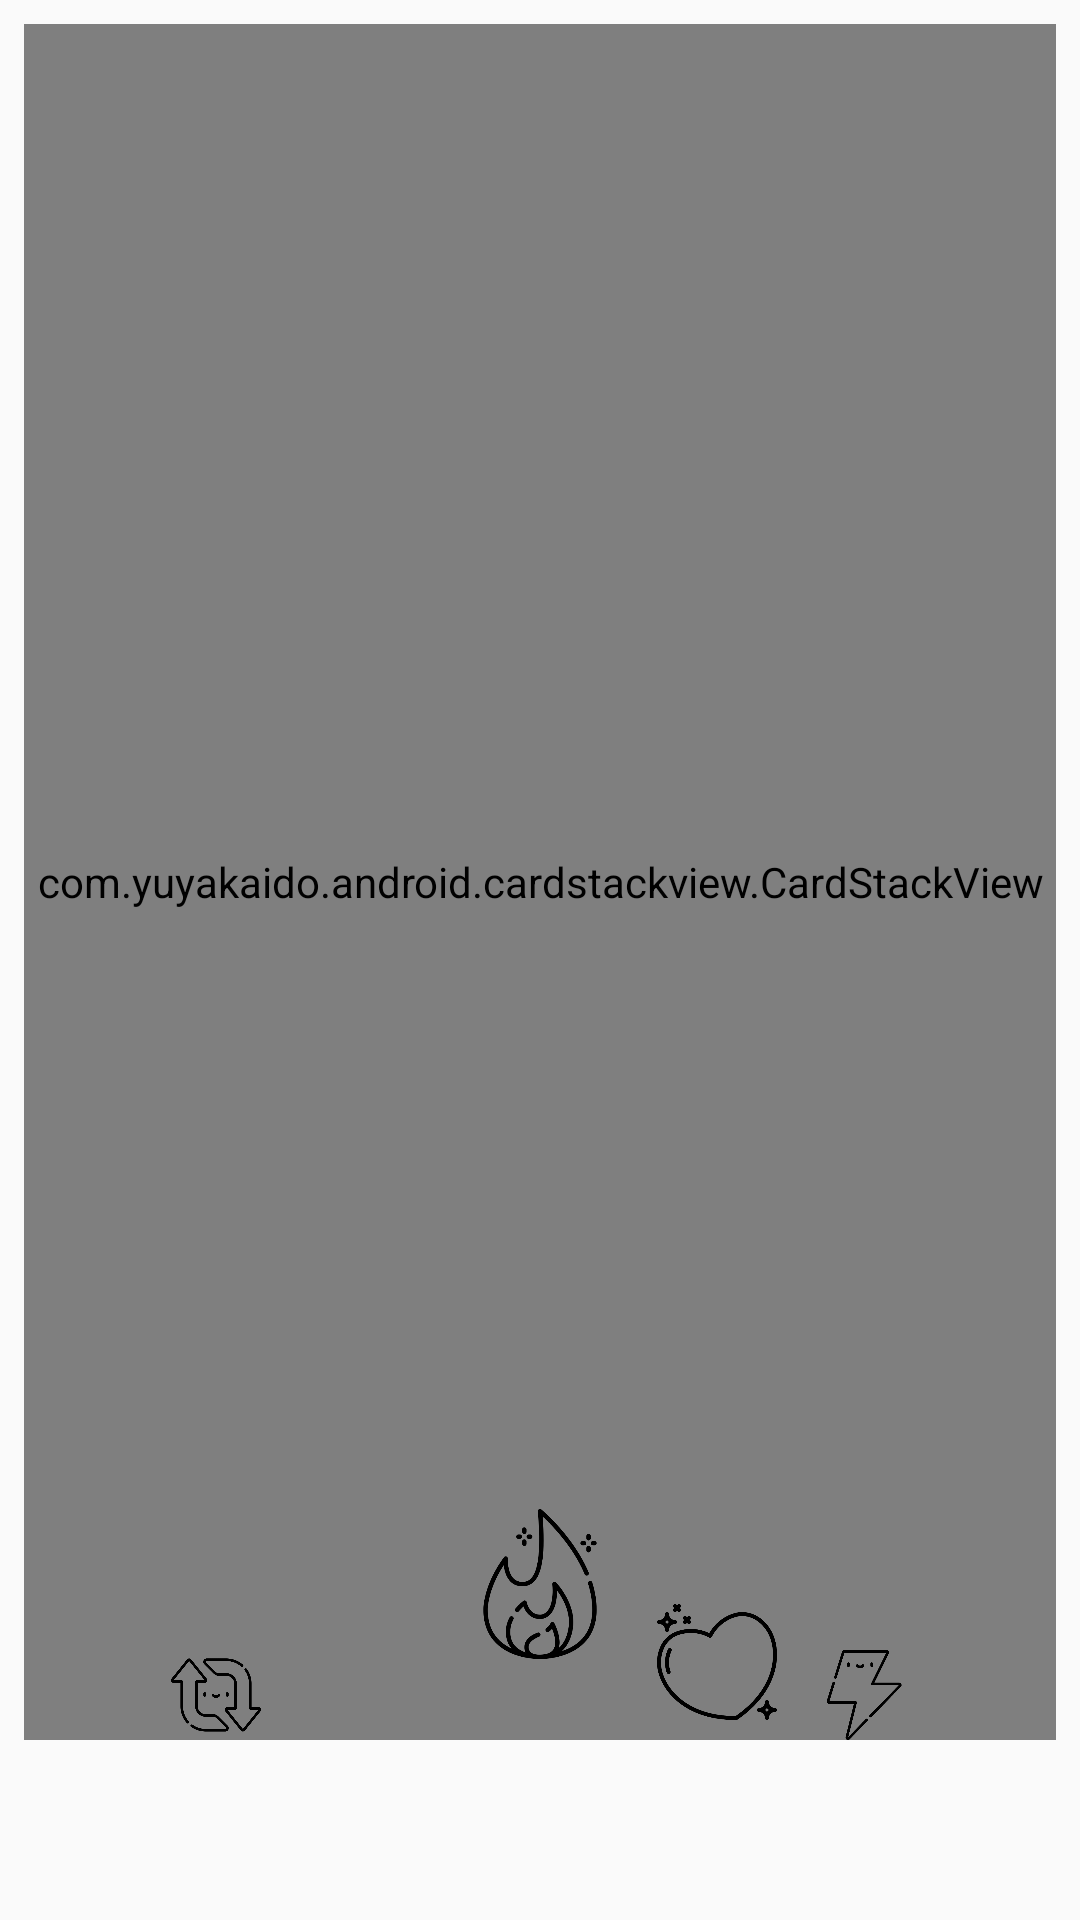

Where to tap for icons on this 1080×1920 app screen, as (x=x, y=y):
fire: (x=540, y=1584)
heart: (x=717, y=1662)
refresh: (x=216, y=1695)
